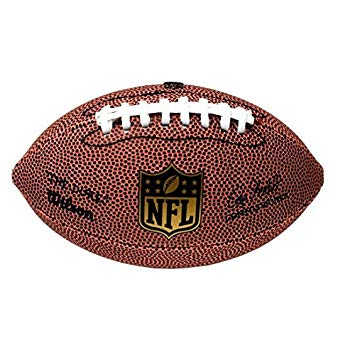Nonrec_Plastic: (1, 60, 348, 286)
